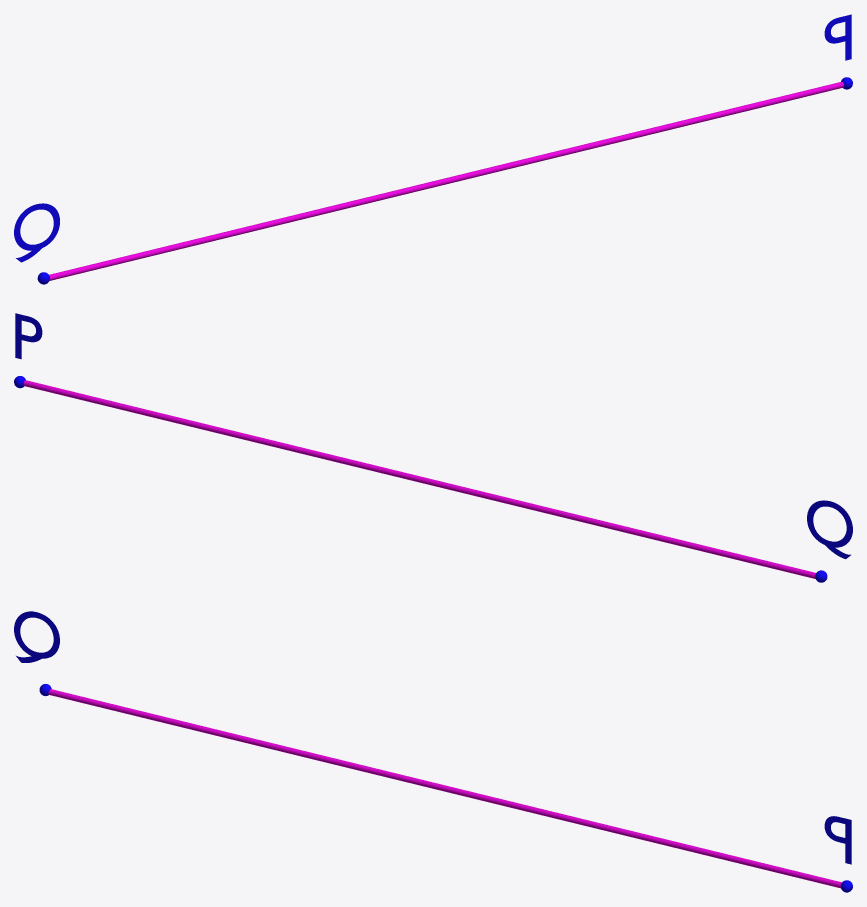
The picture shows the model from 3 angles, top to bottom: view 1: azimuth 30°, elevation 25°; view 2: azimuth 150°, elevation 25°; view 3: azimuth 330°, elevation 25°; orthographic projection.
Parts seen in each view (by area): view 1: reta_r_linha_Cylinder, letraQ_Text, letraP_Text; view 2: reta_r_linha_Cylinder, letraQ_Text, letraP_Text; view 3: reta_r_linha_Cylinder, letraQ_Text, letraP_Text.
Part boxes in pixels (bbox=[...]): reta_r_linha_Cylinder: bbox=[49, 81, 844, 280]; letraQ_Text: bbox=[14, 203, 59, 262]; letraP_Text: bbox=[824, 14, 851, 60]; reta_r_linha_Cylinder: bbox=[23, 380, 815, 578]; letraQ_Text: bbox=[807, 500, 852, 559]; letraP_Text: bbox=[15, 313, 42, 359]; reta_r_linha_Cylinder: bbox=[48, 689, 841, 888]; letraQ_Text: bbox=[14, 611, 59, 662]; letraP_Text: bbox=[824, 816, 851, 864].
Bounding box in the file's own units: 4.68 × 0.4444 × 0.06.
